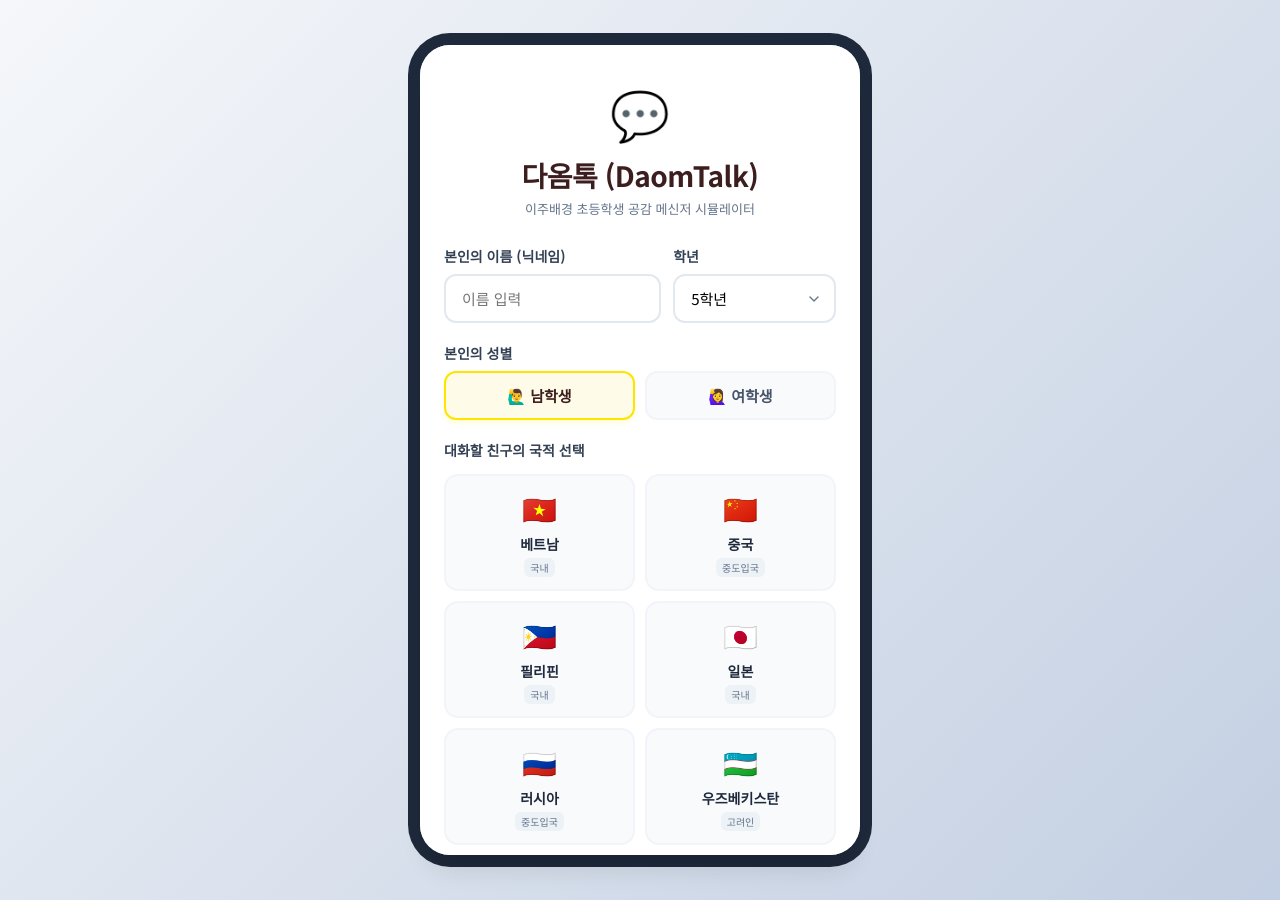
Test: Lobby Component › should keep the start button disabled if only country is selected
This screenshot has width=1280, height=900.
Note: Select Vietnam card
Click the button with test id "country-card-베트남" at (540, 532), box [444, 474, 635, 591]
(page scrolled)
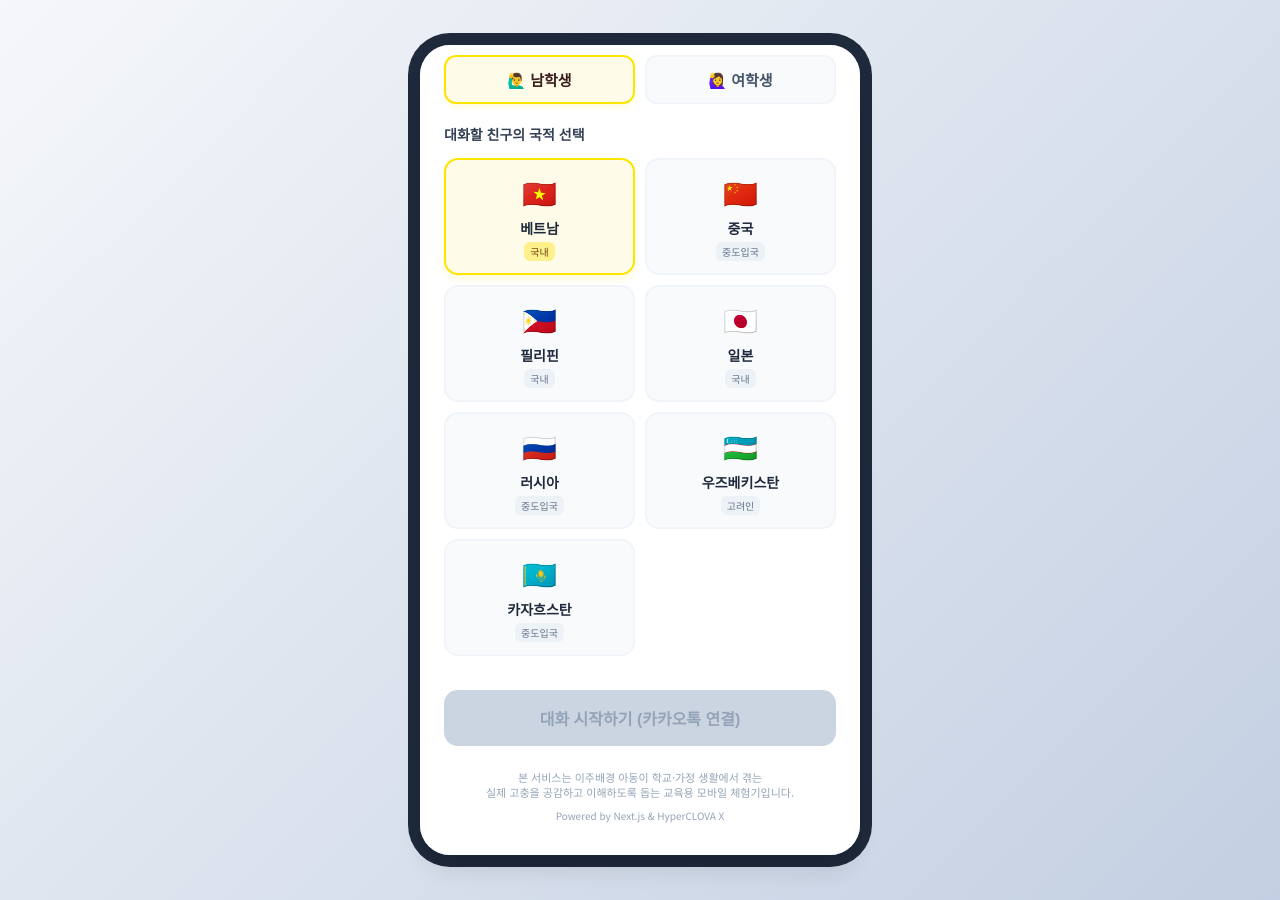
Expected: the button "대화 시작하기 (카카오톡 연결)" is disabled, [444, 690, 836, 746]
